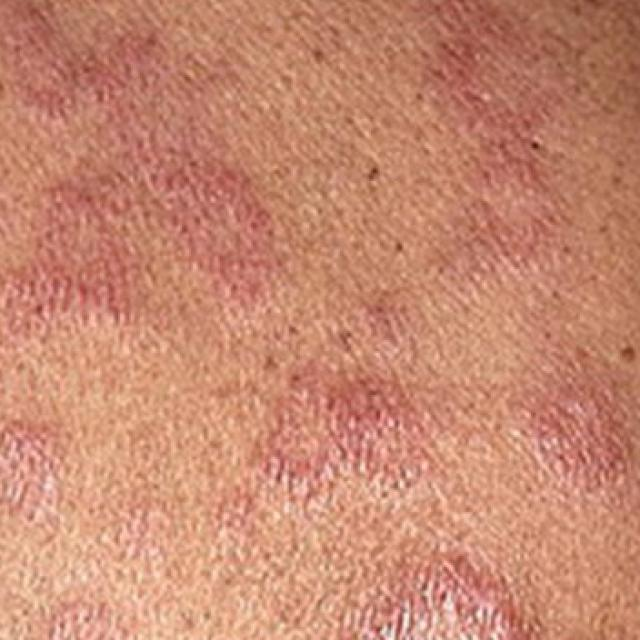Leprosy: (0, 0, 307, 334), (220, 353, 640, 541), (374, 0, 640, 287), (302, 545, 573, 640), (0, 386, 76, 536), (18, 567, 156, 640)
